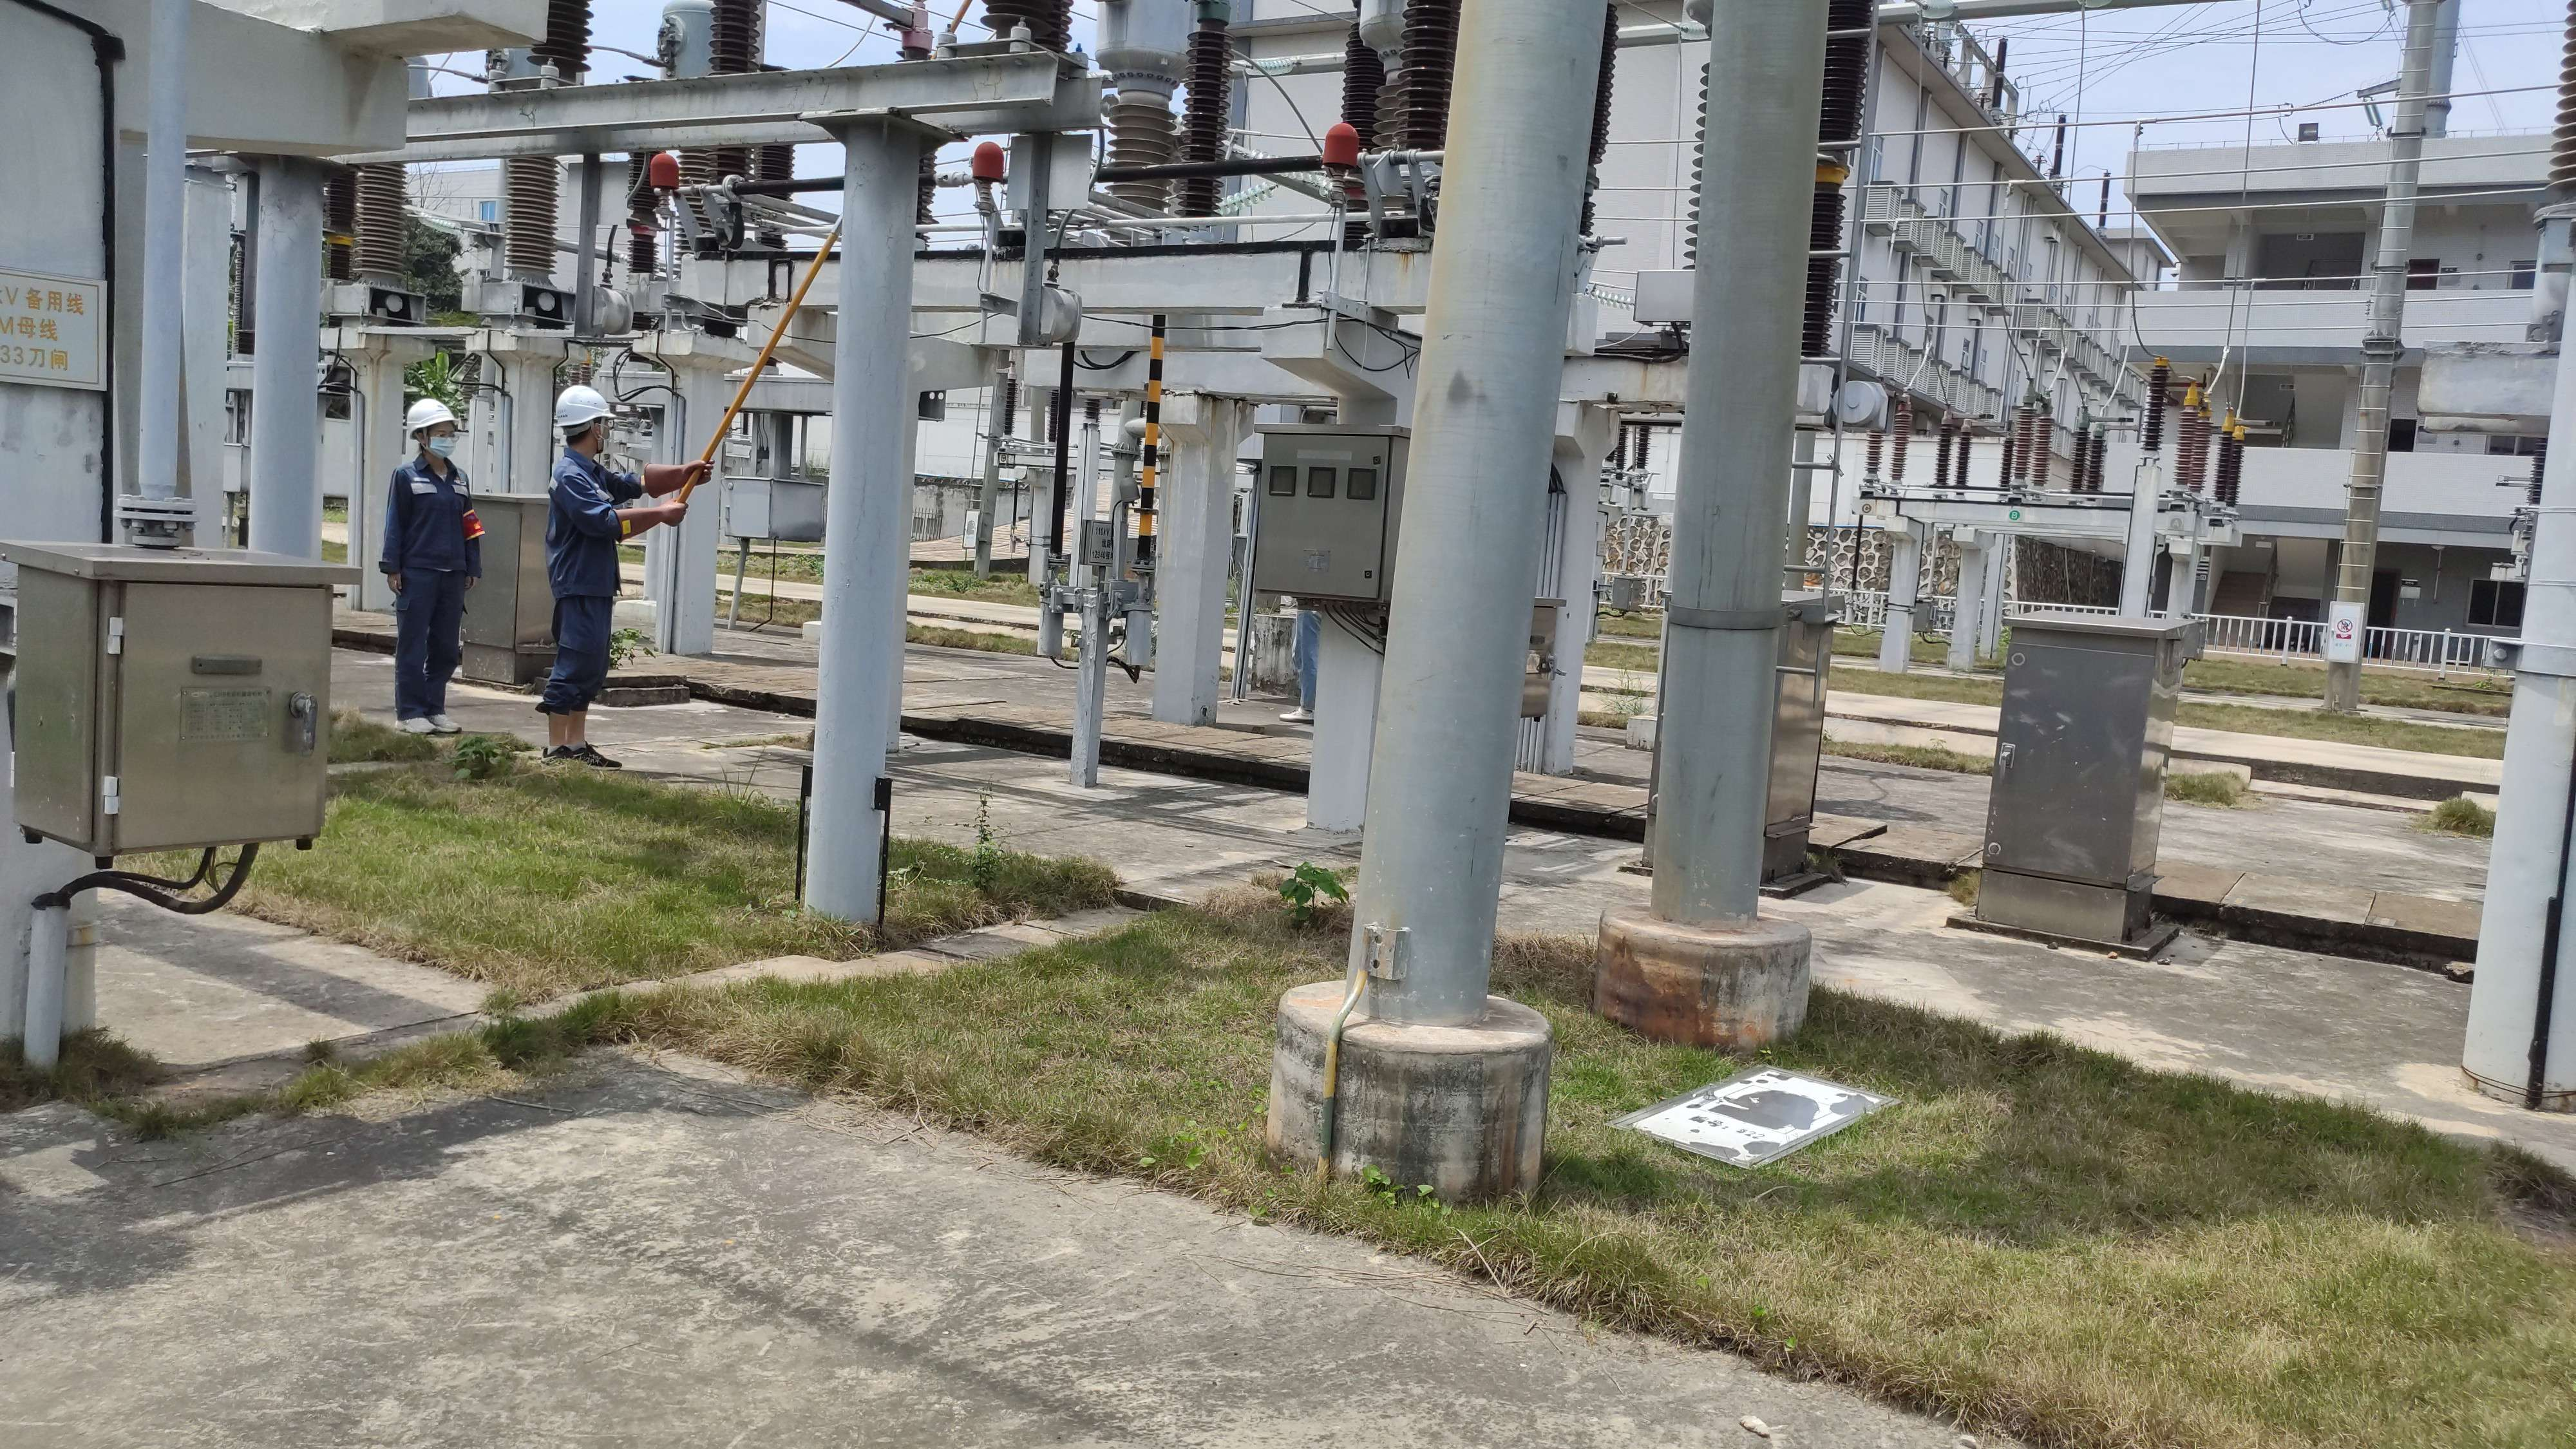downsuit: (395, 582, 469, 718), (545, 607, 616, 717)
upsuit: (550, 451, 646, 602), (387, 460, 481, 579)
wrongbottom: (541, 686, 598, 757)
